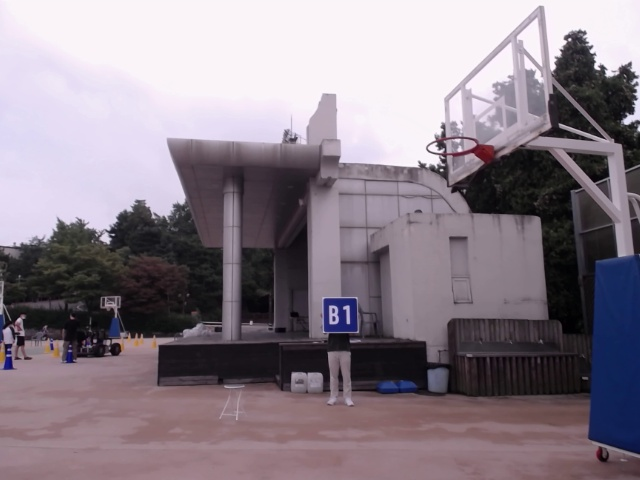delivery_b1: (322, 297, 359, 333)
